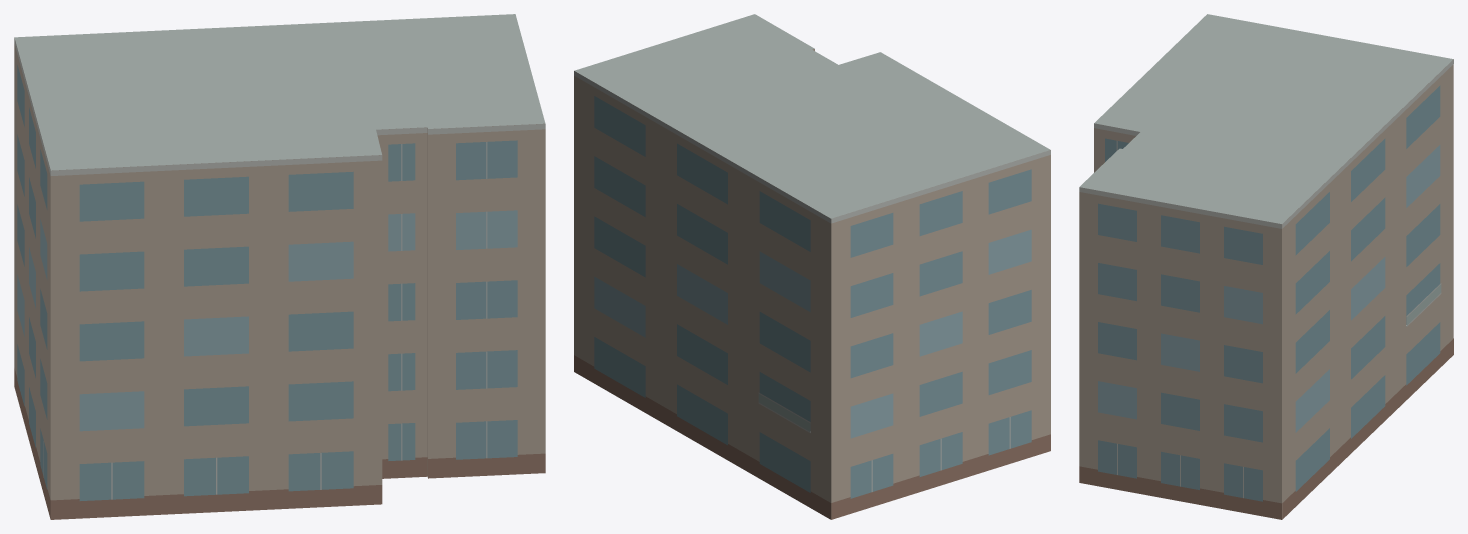
The model's file is survey-upis-32527737.glb.
3 views of the same model, side by side, from view 1: azimuth 30°, elevation 25°; view 2: azimuth 150°, elevation 25°; view 3: azimuth 270°, elevation 25° (orthographic). The views are drawn at different scales.
Visible parts, largest first — view 1: survey-upis-32527737.tmp; view 2: survey-upis-32527737.tmp; view 3: survey-upis-32527737.tmp.
Boxes of the visible parts, box(x1,y1,x2,y2) form: survey-upis-32527737.tmp: box(14, 14, 545, 519); survey-upis-32527737.tmp: box(574, 14, 1050, 519); survey-upis-32527737.tmp: box(1079, 14, 1453, 519).
Bounding box in the file's own units: 23.03 × 15.1 × 17.34.
